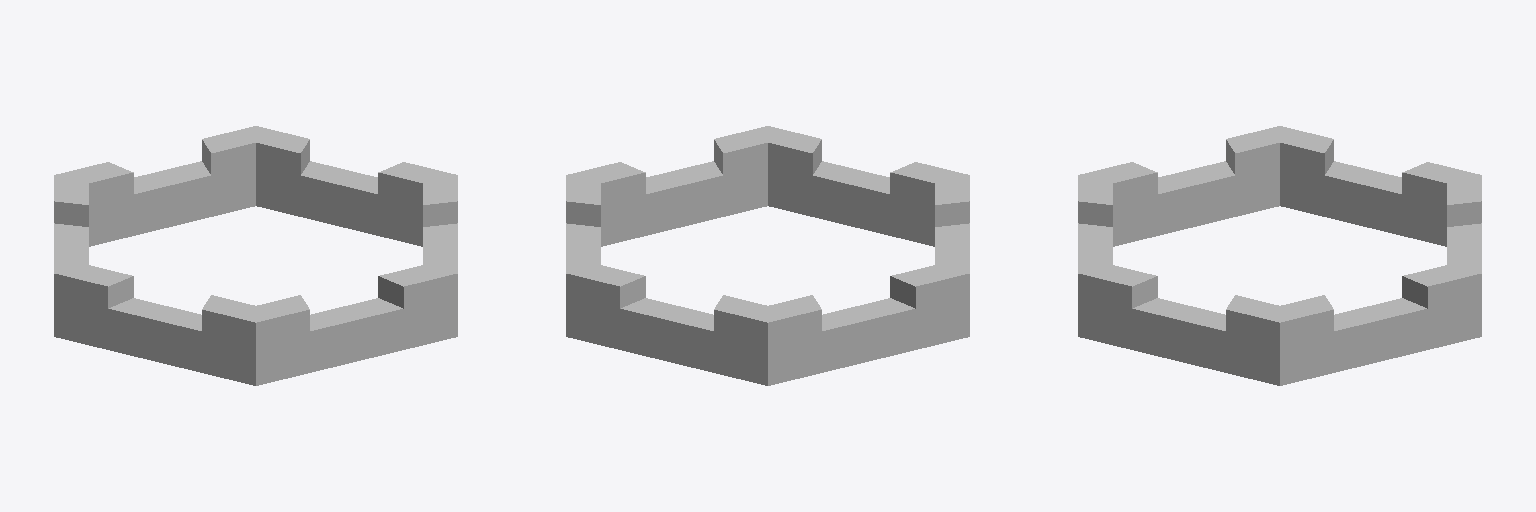
File: towerHexagonTop_exclusive.obj
3 renders of one model, left to right at view 1: azimuth 30°, elevation 25°; view 2: azimuth 150°, elevation 25°; view 3: azimuth 270°, elevation 25°, orthographic.
Parts seen in each view (by area): view 1: towerHexagonTop_exclusive; view 2: towerHexagonTop_exclusive; view 3: towerHexagonTop_exclusive.
Boxes of the visible parts, <box> form: towerHexagonTop_exclusive: <box>54,126,457,385</box>; towerHexagonTop_exclusive: <box>566,126,969,385</box>; towerHexagonTop_exclusive: <box>1078,126,1481,385</box>.
Size of the model in its own units: 8.64 by 1.3 by 7.48.